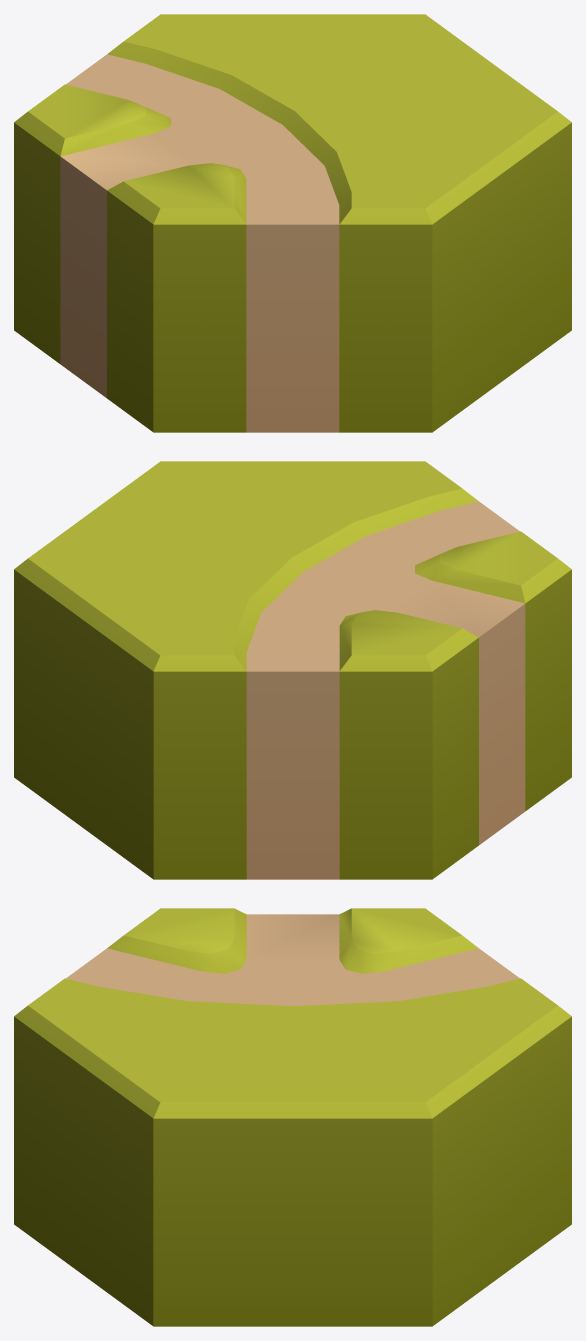
Rendered from hex_road_G.glb.
3 renders of one model, top to bottom at view 1: azimuth 30°, elevation 25°; view 2: azimuth 150°, elevation 25°; view 3: azimuth 270°, elevation 25°, orthographic.
Parts seen in each view (by area): view 1: hex_road_G; view 2: hex_road_G; view 3: hex_road_G.
Boxes of the visible parts, x1,y1,x2,y2 form: hex_road_G: (14, 14, 571, 432); hex_road_G: (14, 461, 571, 879); hex_road_G: (14, 908, 571, 1326).
Size of the model in its own units: 2 by 1 by 2.31.
1 material, 1 textured.
